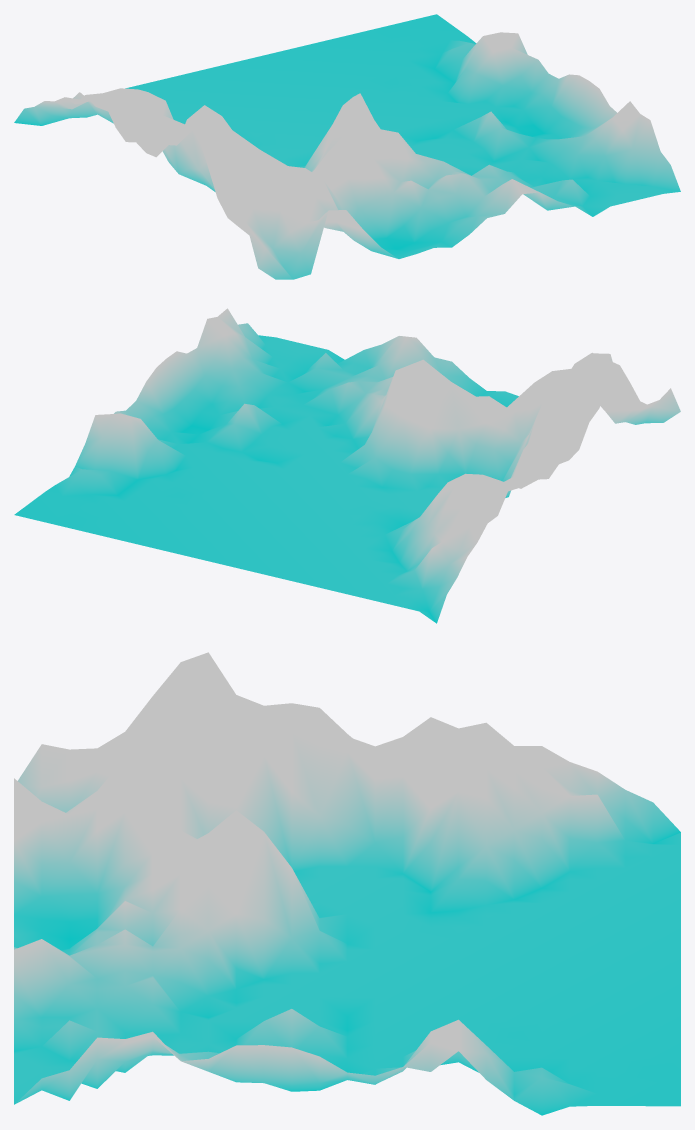
3 renders of one model, top to bottom at view 1: azimuth 30°, elevation 25°; view 2: azimuth 150°, elevation 25°; view 3: azimuth 270°, elevation 25°, orthographic. The views are drawn at different scales.
Parts seen in each view (by area): view 1: attribwrangle3; view 2: attribwrangle3; view 3: attribwrangle3.
Boxes of the visible parts, left/top/right/bottom form: attribwrangle3: left=14, top=14, right=680, bottom=279; attribwrangle3: left=14, top=308, right=680, bottom=623; attribwrangle3: left=14, top=652, right=680, bottom=1115.
Bounding box in the file's own units: 98 × 31.35 × 98.
